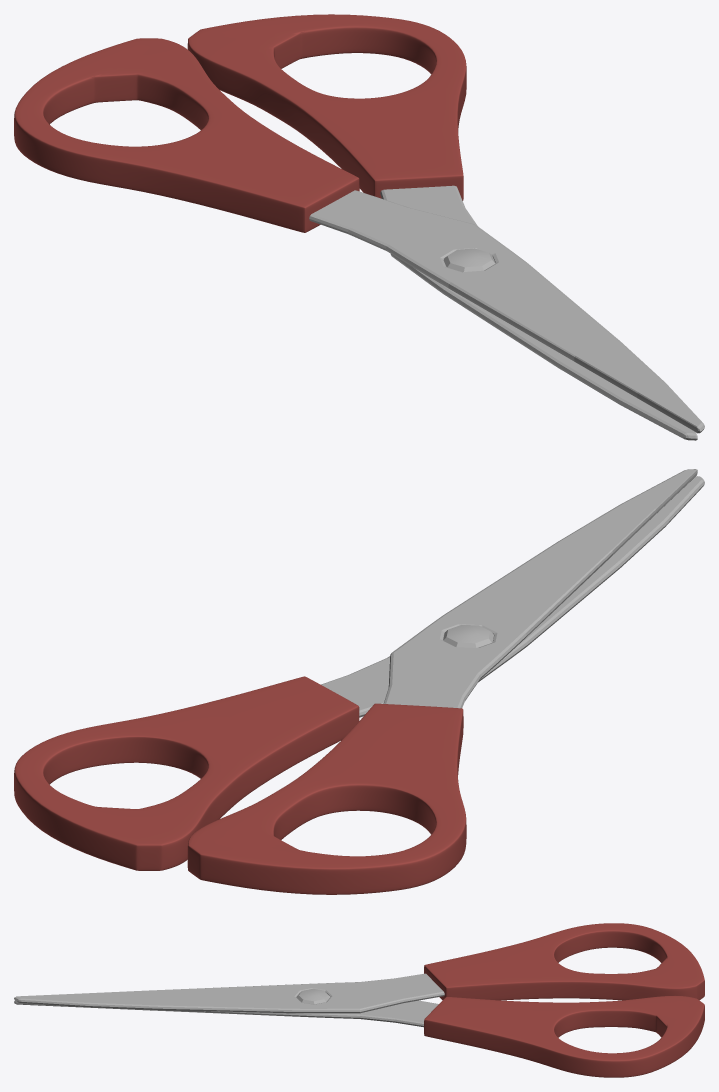
File: ScissorsThicc.fbx
3 views of the same model, one above another, from view 1: azimuth 30°, elevation 25°; view 2: azimuth 150°, elevation 25°; view 3: azimuth 270°, elevation 25° (orthographic). The views are drawn at different scales.
Parts seen in each view (by area): view 1: Hendel01, Hendel02, Blade01, Blade02, Schroef; view 2: Hendel02, Hendel01, Blade01, Blade02, Schroef; view 3: Hendel02, Hendel01, Blade01, Blade02, Schroef.
Part boxes in pixels (x1,y1,x2,y2): Hendel01: (14, 38, 359, 232); Hendel02: (187, 14, 466, 200); Blade01: (309, 190, 704, 433); Blade02: (380, 185, 697, 440); Schroef: (443, 248, 495, 271); Hendel02: (14, 676, 359, 870); Hendel01: (187, 703, 466, 894); Blade01: (383, 469, 697, 708); Blade02: (321, 476, 704, 717); Schroef: (443, 625, 493, 647); Hendel02: (424, 996, 704, 1077); Hendel01: (424, 923, 704, 1000); Blade01: (14, 973, 444, 1013); Blade02: (14, 1000, 438, 1027); Schroef: (296, 988, 330, 1004).
Bounding box in the file's own units: 64.84 × 4.93 × 141.
